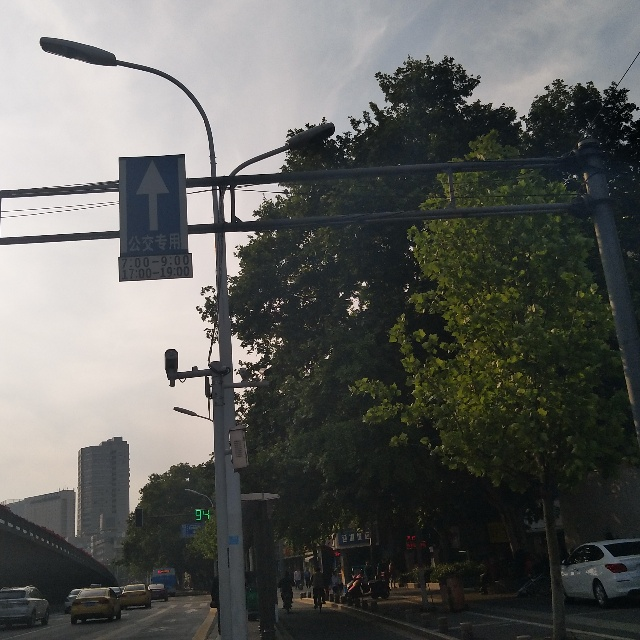straight: (124, 157, 181, 234)
